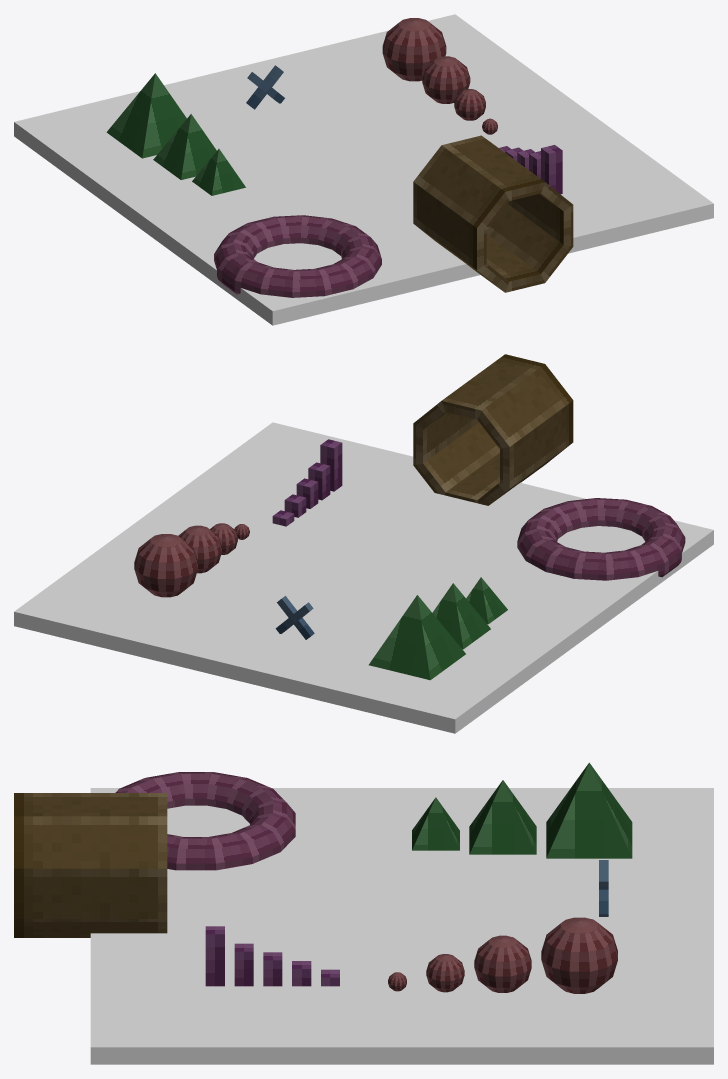
The model's file is playtest_map_24x24_scale1_test.gltf.
3 views of the same model, one above another, from view 1: azimuth 30°, elevation 25°; view 2: azimuth 150°, elevation 25°; view 3: azimuth 270°, elevation 25° (orthographic). The views are drawn at different scales.
Parts seen in each view (by area): view 1: cube (×2), tube, torus, pyramid (×3), sphere (×3); view 2: cube (×3), tube, torus, pyramid (×3), sphere (×2); view 3: cube (×5), tube, pyramid (×3), torus, sphere (×3).
Part boxes in pixels (x1,y1,x2,y2): cube (×2): (14, 14, 713, 325); tube: (413, 135, 573, 292); torus: (214, 215, 381, 297); pyramid (×3): (106, 73, 245, 195); sphere (×3): (382, 18, 485, 120); cube (×3): (14, 422, 713, 733); tube: (413, 354, 573, 505); torus: (517, 498, 685, 580); pyramid (×3): (368, 577, 507, 680); sphere (×2): (134, 525, 221, 597); cube (×5): (90, 788, 713, 1064); tube: (14, 793, 167, 937); pyramid (×3): (412, 762, 632, 858); torus: (115, 772, 295, 870); sphere (×3): (426, 917, 617, 993).
Size of what is drawn, in the model's own units: 64.38 by 15.55 by 73.
7 materials, 6 textured.
